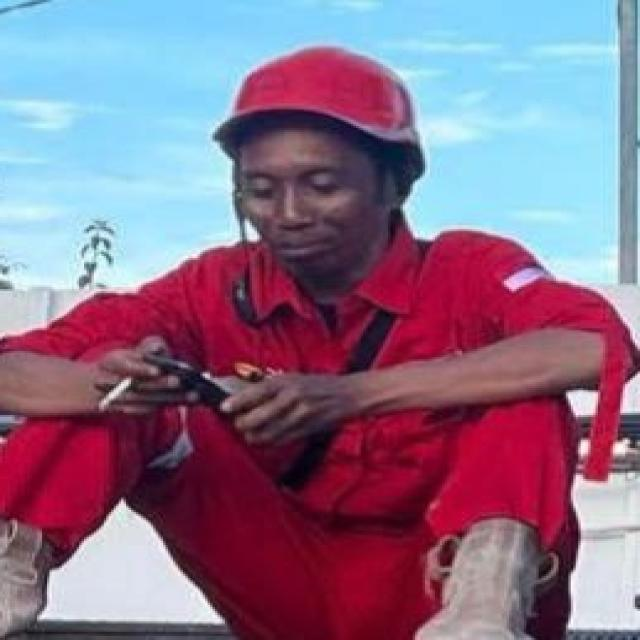safetyhelmet: (216, 42, 435, 231)
